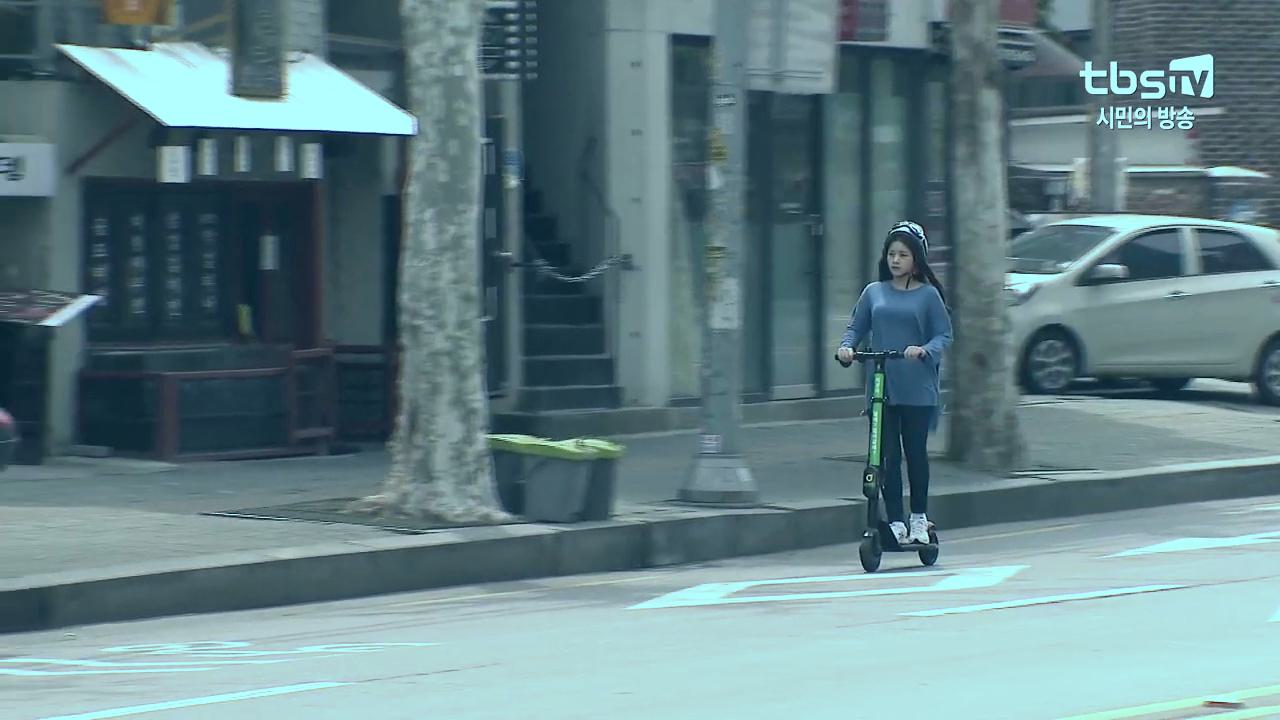helmet: (832, 221, 959, 575)
